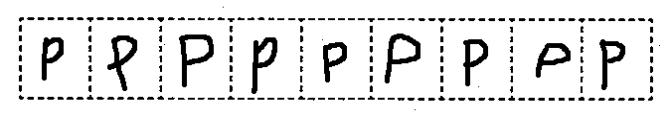P: (174, 30, 217, 90), (382, 30, 425, 87), (104, 31, 140, 94), (458, 35, 494, 91), (314, 37, 353, 88), (595, 36, 629, 93), (248, 34, 279, 94), (34, 34, 69, 85), (530, 40, 574, 80)
